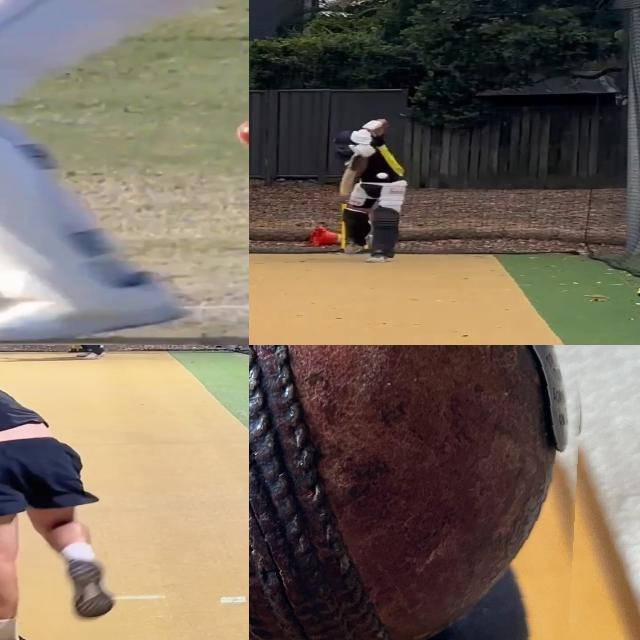Cricket ball: (249, 345, 593, 640), (235, 115, 249, 150), (377, 172, 388, 180)
